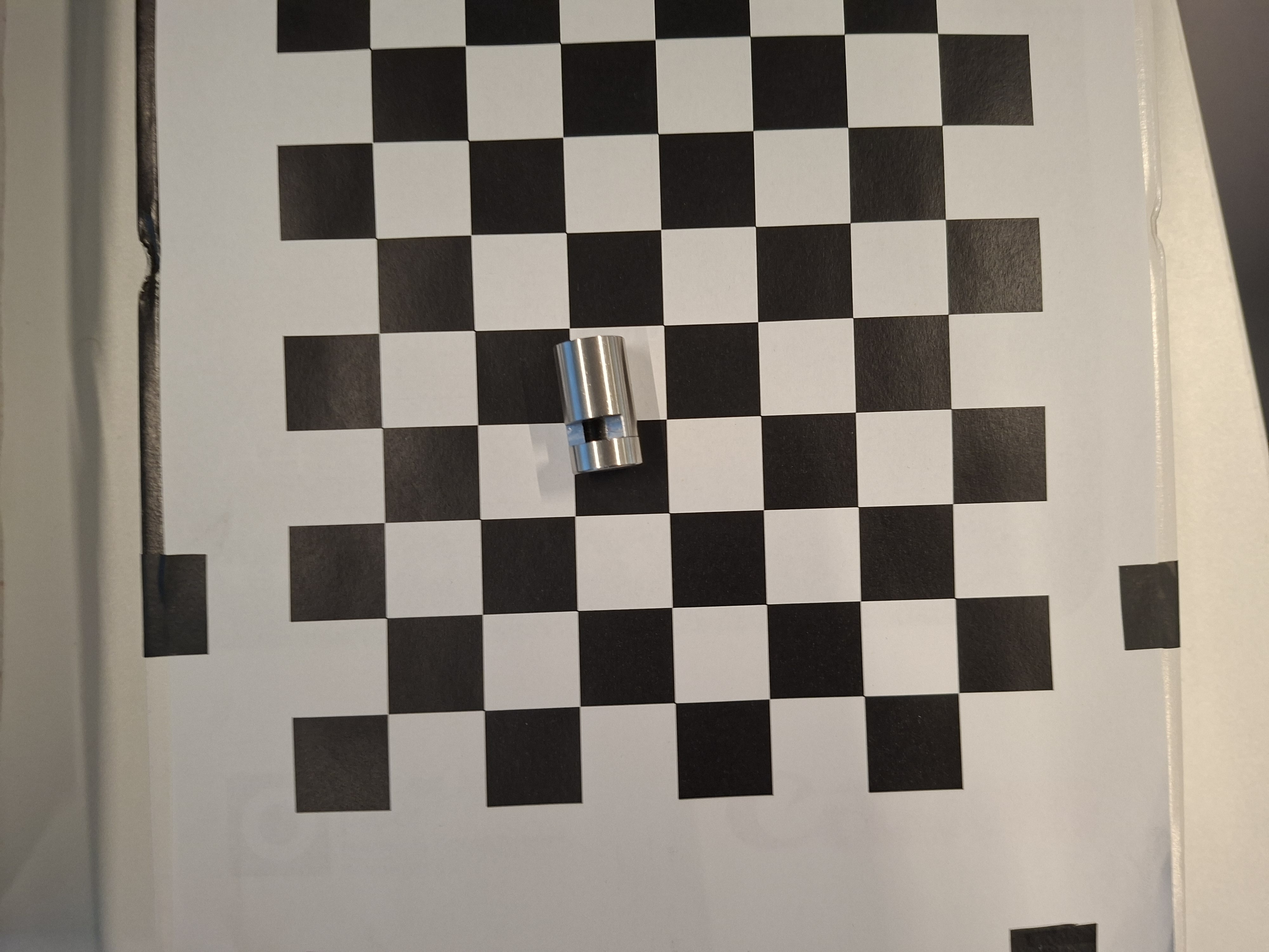barrel_nut: (545, 327, 652, 480)
